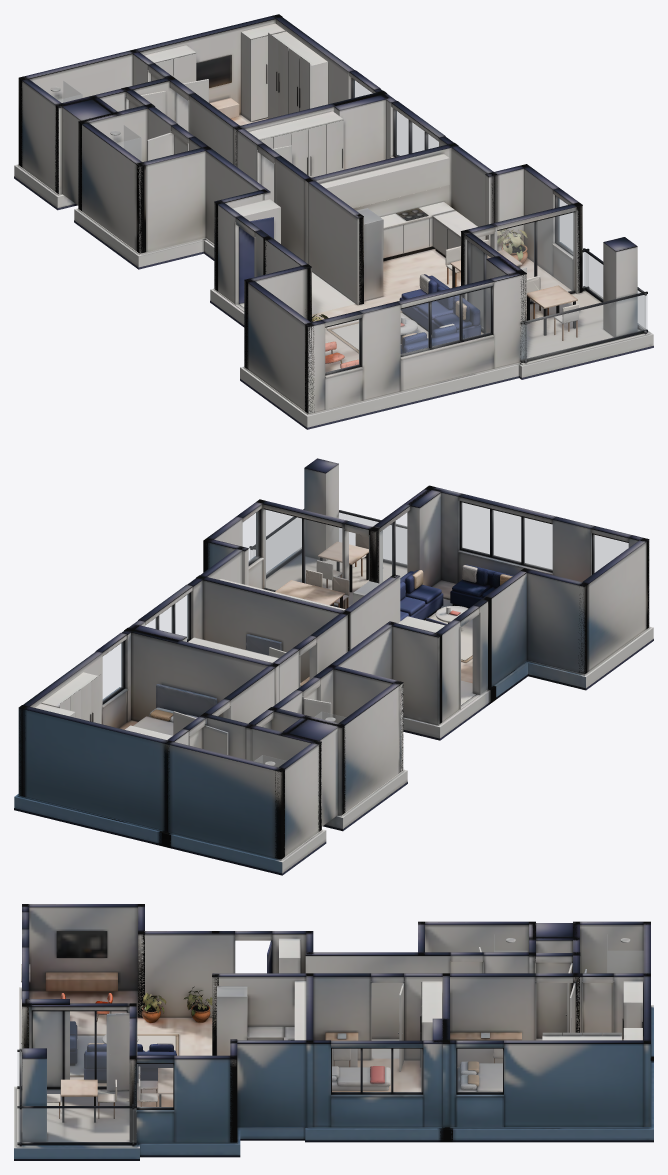
The picture shows the model from 3 angles, top to bottom: view 1: azimuth 30°, elevation 25°; view 2: azimuth 150°, elevation 25°; view 3: azimuth 270°, elevation 25°; orthographic projection. The views are drawn at different scales.
Visible parts, largest first — view 1: plan, railg3_m, glass5_m, glass3_m, glass2_m, glass1_m, railg6_m, glass6_m; view 2: plan, glass5_m, glass3_m, glass6_m, railg6_m, railg3_m, glass0_m, glass1_m, glass2_m, glass4_m; view 3: plan, glass6_m, railg6_m, glass1_m, glass0_m, glass4_m, sg_m.
Boxes of the visible parts, <box> form: plan: <box>14,14,653,429</box>; railg3_m: <box>521,294,647,359</box>; glass5_m: <box>497,212,574,301</box>; glass3_m: <box>401,288,490,354</box>; glass2_m: <box>325,320,359,372</box>; glass1_m: <box>395,110,438,156</box>; railg6_m: <box>584,252,645,330</box>; glass6_m: <box>469,242,490,328</box>; plan: <box>14,458,653,875</box>; glass5_m: <box>264,509,341,605</box>; glass3_m: <box>461,502,552,569</box>; glass6_m: <box>380,513,407,583</box>; railg6_m: <box>251,518,301,574</box>; railg3_m: <box>339,513,406,564</box>; glass0_m: <box>103,642,122,701</box>; glass1_m: <box>145,594,188,639</box>; glass2_m: <box>594,535,628,572</box>; glass4_m: <box>243,511,258,562</box>; plan: <box>14,904,653,1160</box>; glass6_m: <box>33,1011,126,1086</box>; railg6_m: <box>17,1108,136,1142</box>; glass1_m: <box>332,1049,421,1092</box>; glass0_m: <box>457,1049,502,1092</box>; glass4_m: <box>137,1064,172,1107</box>; sg_m: <box>607,951,643,972</box>.
Size of the model in its own units: 9.33 by 2.62 by 15.66.
Materials: 2 (1 with a texture image).
